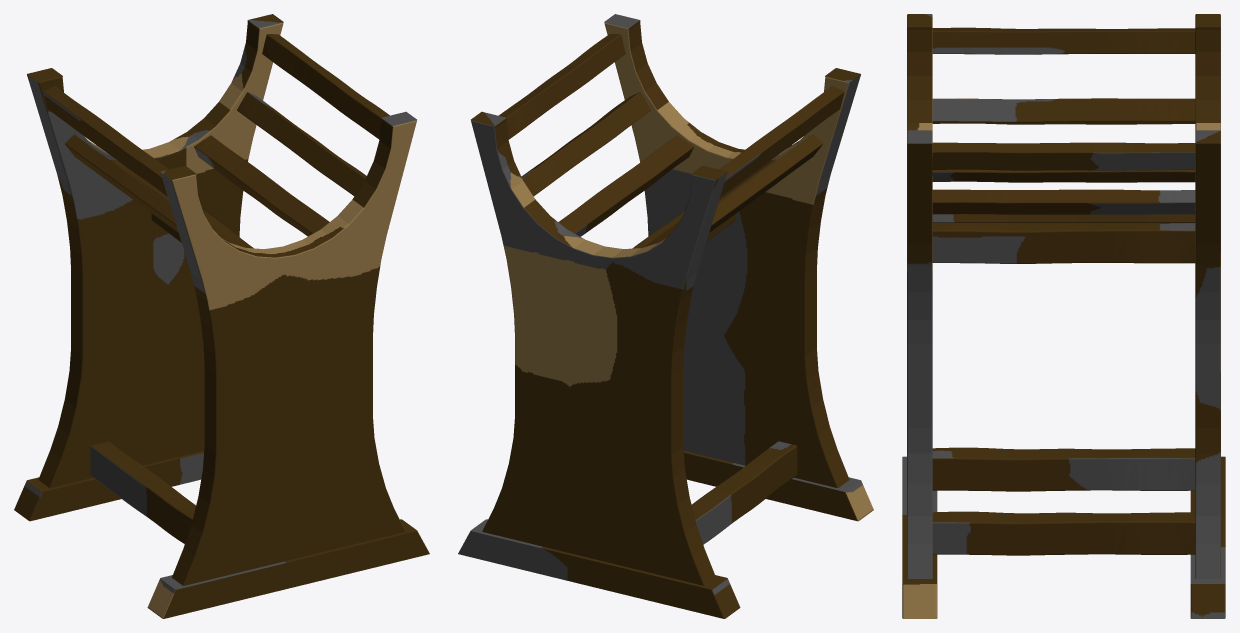
Rendered from TI_BarrelStand.obj.
3 renders of one model, left to right at view 1: azimuth 30°, elevation 25°; view 2: azimuth 150°, elevation 25°; view 3: azimuth 270°, elevation 25°, orthographic. The views are drawn at different scales.
Parts seen in each view (by area): view 1: Куб.096; view 2: Куб.096; view 3: Куб.096.
Boxes of the visible parts, left/top/right/bottom form: Куб.096: left=14, top=14, right=429, bottom=618; Куб.096: left=458, top=14, right=873, bottom=618; Куб.096: left=902, top=14, right=1225, bottom=618.
Size of the model in its own units: 2.78 by 4.32 by 2.69.
